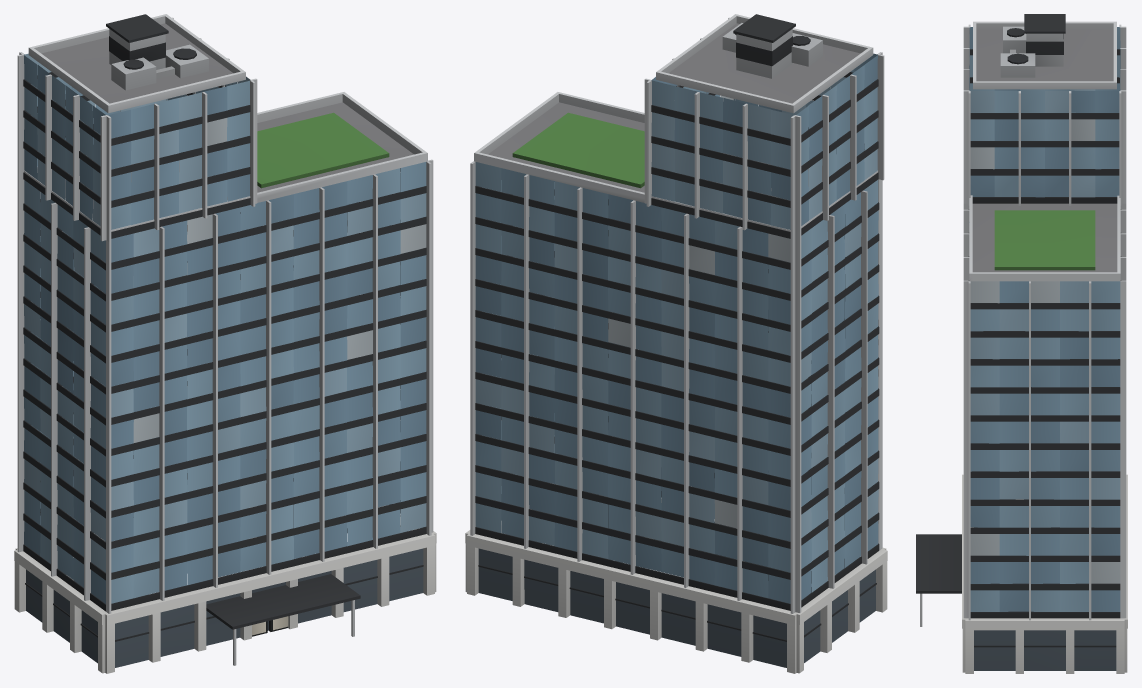
Rendered from bureau3.glb.
3 renders of one model, left to right at view 1: azimuth 30°, elevation 25°; view 2: azimuth 150°, elevation 25°; view 3: azimuth 270°, elevation 25°, orthographic. The views are drawn at different scales.
Parts seen in each view (by area): view 1: bureau3; view 2: bureau3; view 3: bureau3.
Part boxes in pixels (x1,y1,x2,y2): bureau3: (14,14,436,673); bureau3: (465,14,887,673); bureau3: (916,14,1127,673).
Bounding box in the file's own units: 41.8 × 70.98 × 25.3.
